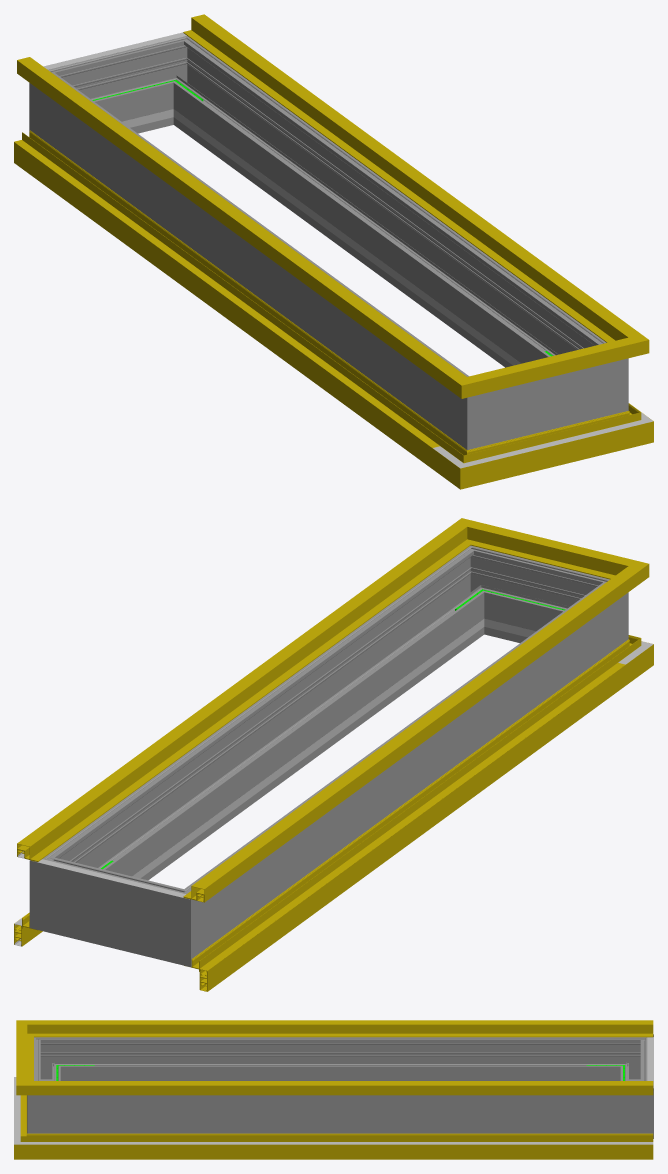
The picture shows the model from 3 angles, top to bottom: view 1: azimuth 30°, elevation 25°; view 2: azimuth 150°, elevation 25°; view 3: azimuth 270°, elevation 25°; orthographic projection. The views are drawn at different scales.
Visible parts, largest first — view 1: 3DGeom-297, 3DGeom-268, 3DGeom-85, 3DGeom-128, 3DGeom-118, 3DGeom-276, 3DGeom-270, 3DGeom-298, 3DGeom-105, 3DGeom-90, 3DGeom-284, 3DGeom-237 (+8 smaller); view 2: 3DGeom-297, 3DGeom-268, 3DGeom-85, 3DGeom-128, 3DGeom-118, 3DGeom-278, 3DGeom-276, 3DGeom-298, 3DGeom-284, 3DGeom-105, 3DGeom-290, 3DGeom-237 (+6 smaller); view 3: 3DGeom-268, 3DGeom-297, 3DGeom-97, 3DGeom-118, 3DGeom-128, 3DGeom-98, 3DGeom-290, 3DGeom-284, 3DGeom-270, 3DGeom-278, 3DGeom-92, 3DGeom-125 (+8 smaller).
Boxes of the visible parts, bbox=[...] form: 3DGeom-297: bbox=[178, 53, 592, 367]; 3DGeom-268: bbox=[57, 86, 454, 429]; 3DGeom-85: bbox=[14, 130, 448, 468]; 3DGeom-128: bbox=[183, 14, 620, 337]; 3DGeom-118: bbox=[17, 57, 446, 377]; 3DGeom-276: bbox=[82, 45, 165, 133]; 3DGeom-270: bbox=[439, 366, 515, 449]; 3DGeom-298: bbox=[515, 370, 579, 438]; 3DGeom-105: bbox=[14, 140, 439, 447]; 3DGeom-90: bbox=[499, 419, 605, 477]; 3DGeom-284: bbox=[147, 36, 210, 127]; 3DGeom-237: bbox=[200, 129, 520, 365]; 3DGeom-297: bbox=[65, 562, 479, 880]; 3DGeom-268: bbox=[203, 596, 600, 938]; 3DGeom-85: bbox=[184, 653, 626, 991]; 3DGeom-128: bbox=[17, 538, 454, 861]; 3DGeom-118: bbox=[183, 581, 621, 902]; 3DGeom-278: bbox=[142, 875, 218, 967]; 3DGeom-276: bbox=[78, 865, 151, 955]; 3DGeom-298: bbox=[492, 555, 575, 642]; 3DGeom-284: bbox=[29, 842, 86, 939]; 3DGeom-105: bbox=[200, 663, 625, 972]; 3DGeom-290: bbox=[447, 545, 510, 637]; 3DGeom-237: bbox=[132, 639, 457, 878]; 3DGeom-268: bbox=[67, 1037, 613, 1080]; 3DGeom-297: bbox=[67, 1095, 613, 1133]; 3DGeom-97: bbox=[54, 1133, 653, 1159]; 3DGeom-118: bbox=[56, 1020, 653, 1037]; 3DGeom-128: bbox=[56, 1081, 653, 1095]; 3DGeom-98: bbox=[54, 1142, 653, 1144]; 3DGeom-290: bbox=[27, 1073, 67, 1133]; 3DGeom-284: bbox=[614, 1073, 653, 1138]; 3DGeom-270: bbox=[34, 1037, 67, 1080]; 3DGeom-278: bbox=[614, 1034, 653, 1080]; 3DGeom-92: bbox=[14, 1122, 53, 1159]; 3DGeom-125: bbox=[16, 1068, 56, 1095].
Bounding box in the file's own units: 0.6096 × 0.3069 × 2.44.
